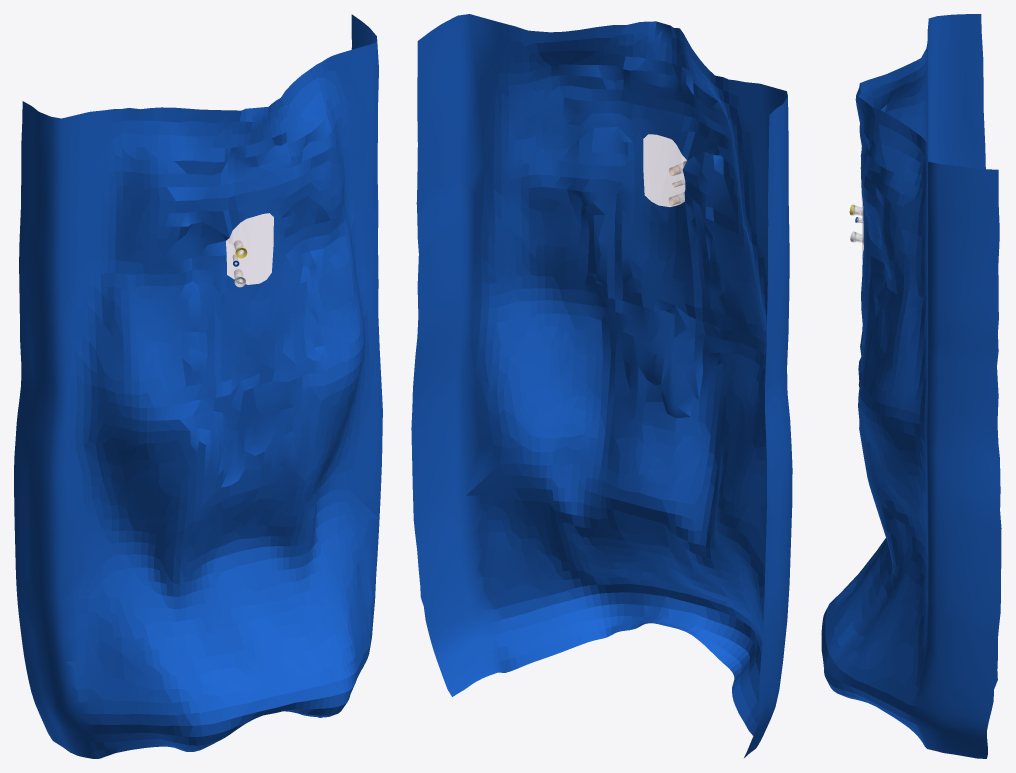
File: draps_shoulders_hole.fbx
The picture shows the model from 3 angles, left to right: view 1: azimuth 30°, elevation 25°; view 2: azimuth 150°, elevation 25°; view 3: azimuth 270°, elevation 25°; orthographic projection. The views are drawn at different scales.
Visible parts, largest first — view 1: Plane.002; view 2: Plane.002; view 3: Plane.002.
Boxes of the visible parts, x1=… form: Plane.002: x1=14, y1=14, x2=382, y2=758; Plane.002: x1=411, y1=14, x2=792, y2=757; Plane.002: x1=821, y1=14, x2=1001, y2=758.
Bounding box in the file's own units: 1080 × 1938 × 523.
